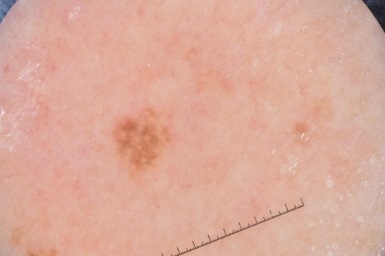nevus: (116, 121, 167, 171)
